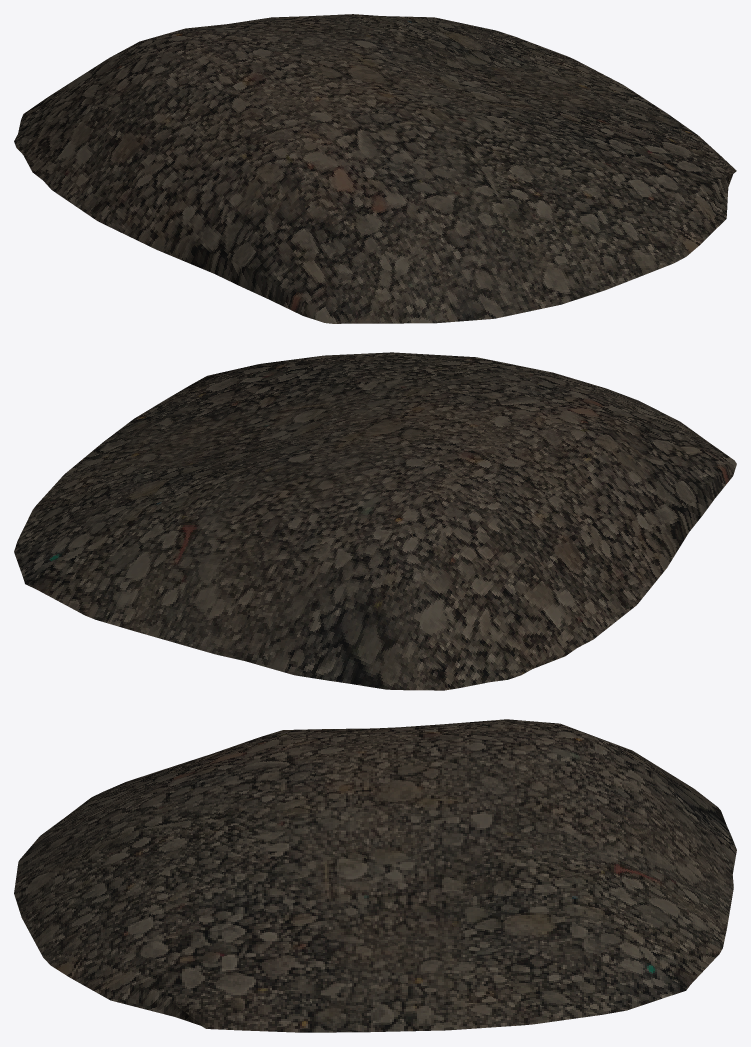
The model's file is gravel_pile_hr_2.glb.
The picture shows the model from 3 angles, top to bottom: view 1: azimuth 30°, elevation 25°; view 2: azimuth 150°, elevation 25°; view 3: azimuth 270°, elevation 25°; orthographic projection. The views are drawn at different scales.
Visible parts, largest first — view 1: gravel_pile_hr_2; view 2: gravel_pile_hr_2; view 3: gravel_pile_hr_2.
Part boxes in pixels (left/top/right/bottom): gravel_pile_hr_2: left=14, top=14, right=736, bottom=323; gravel_pile_hr_2: left=14, top=352, right=736, bottom=690; gravel_pile_hr_2: left=14, top=719, right=736, bottom=1032.
Size of the model in its own units: 1.49 by 0.2791 by 1.67.
Materials: 1 (1 with a texture image).
